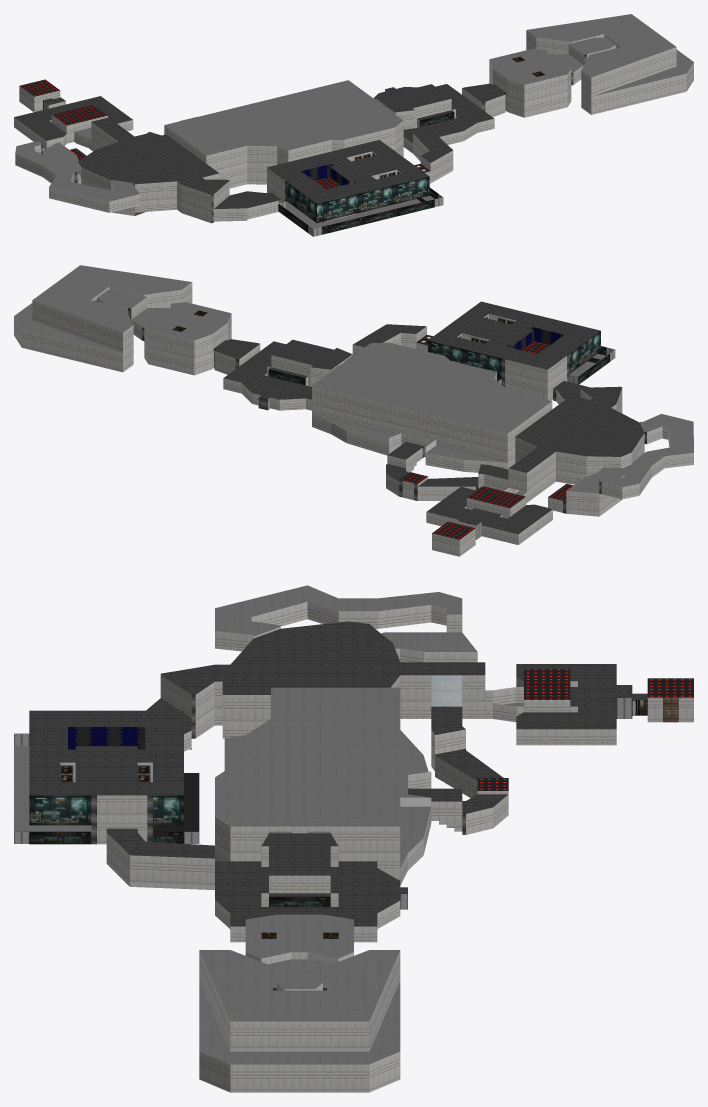
File: Mapa 1 sin puertas vF.fbx
The picture shows the model from 3 angles, top to bottom: view 1: azimuth 30°, elevation 25°; view 2: azimuth 150°, elevation 25°; view 3: azimuth 270°, elevation 25°; orthographic projection. The views are drawn at different scales.
Visible parts, largest first — view 1: E1M1; view 2: E1M1; view 3: E1M1.
Boxes of the visible parts, x1,y1,x2,y2 form: E1M1: [14, 14, 693, 236]; E1M1: [14, 265, 693, 556]; E1M1: [14, 585, 693, 1092].
Bounding box in the file's own units: 1433 × 125 × 882.
Materials: 54 (53 with a texture image).
